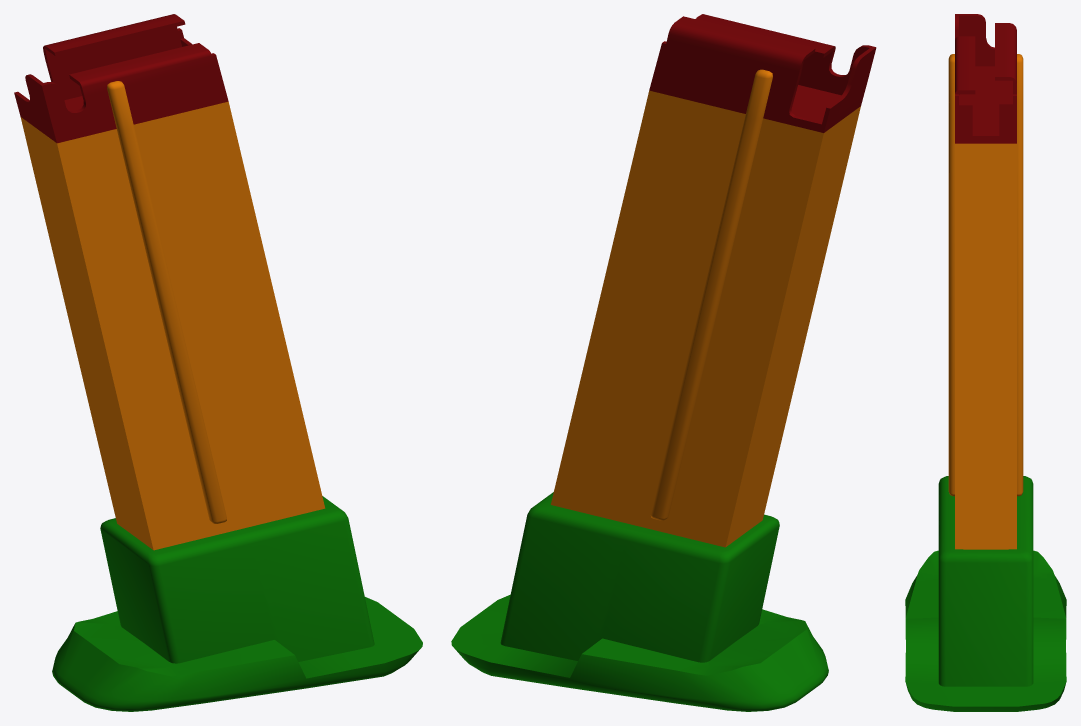
The model's file is FN_mag.fbx.
3 views of the same model, side by side, from view 1: azimuth 30°, elevation 25°; view 2: azimuth 150°, elevation 25°; view 3: azimuth 270°, elevation 25° (orthographic). The views are drawn at different scales.
Parts seen in each view (by area): view 1: FN_mag; view 2: FN_mag; view 3: FN_mag.
Part boxes in pixels (x1,y1,x2,y2): FN_mag: [14, 14, 422, 711]; FN_mag: [451, 14, 876, 711]; FN_mag: [905, 14, 1066, 711].
Size of the model in its own units: 6.86 by 11.64 by 3.03.
